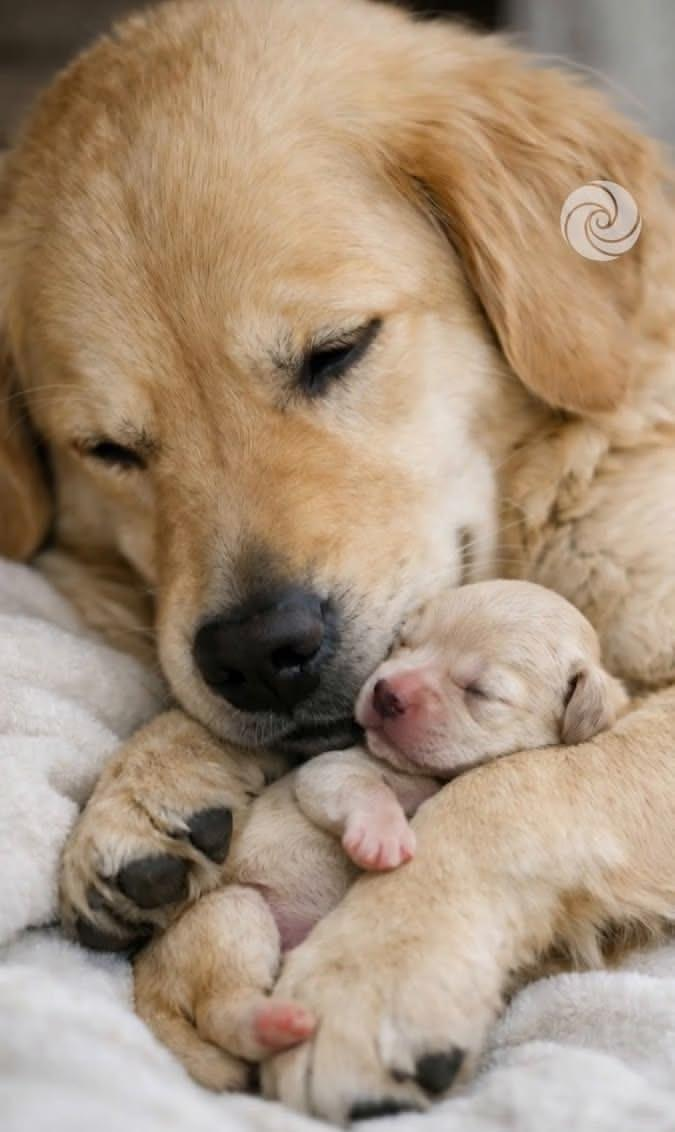adult_dog: (1, 1, 675, 1120)
puppy-dog: (130, 577, 630, 1093)
